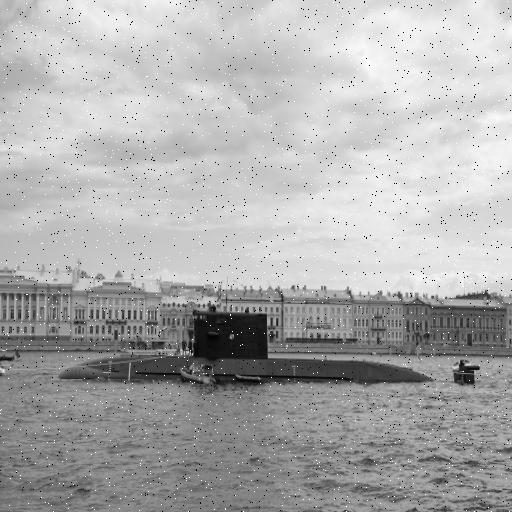submarine: (61, 308, 478, 387)
